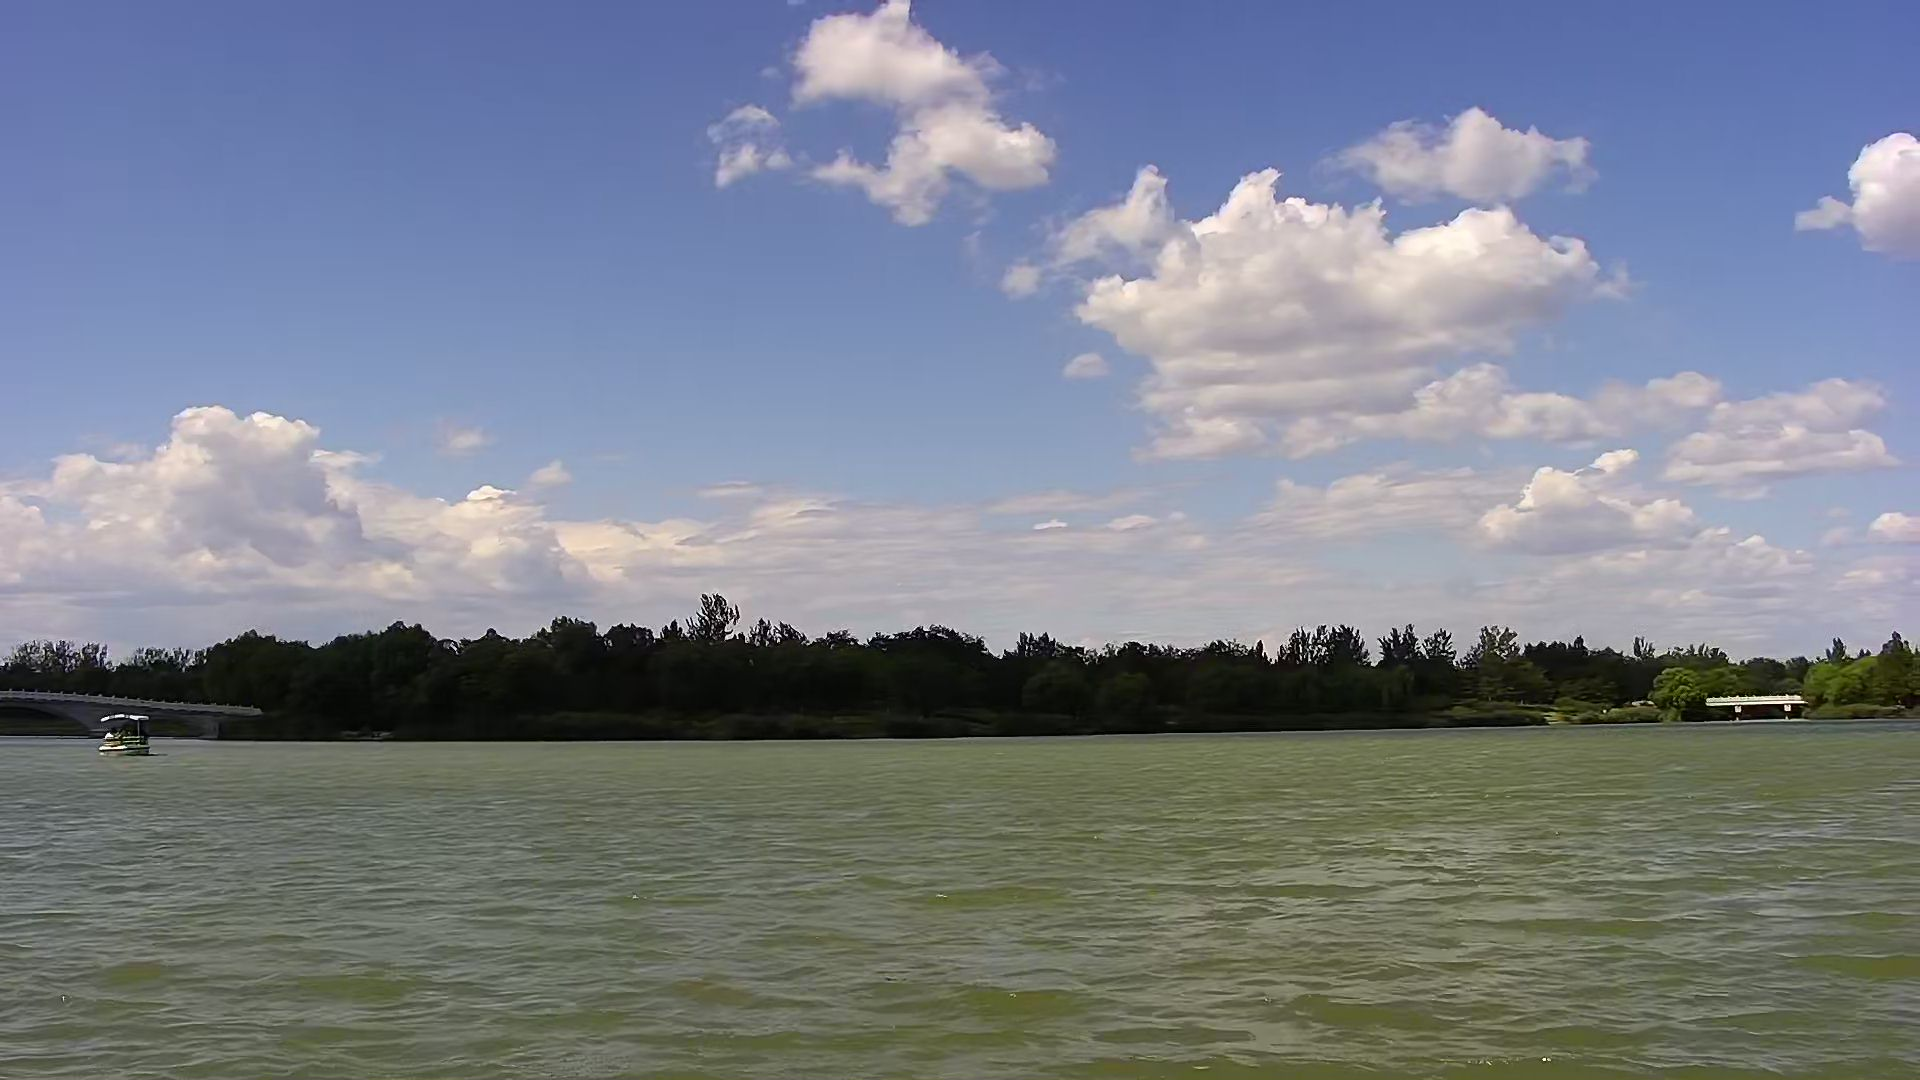boat: (91, 709, 158, 762)
bridge: (1, 682, 270, 740), (1702, 688, 1811, 728)
